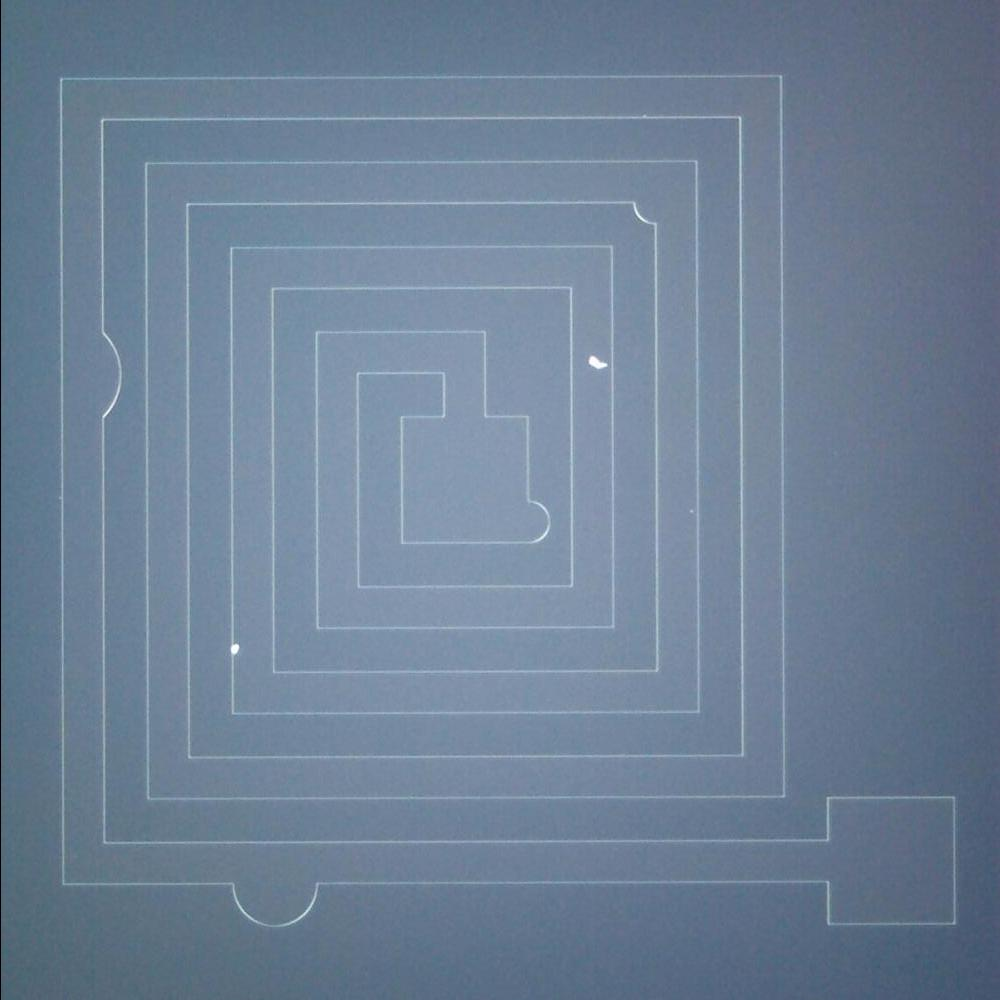curve circuit: (207, 876, 336, 932), (89, 323, 130, 428), (516, 490, 553, 554), (624, 196, 672, 240)
spot: (222, 632, 256, 667), (581, 350, 610, 374)
